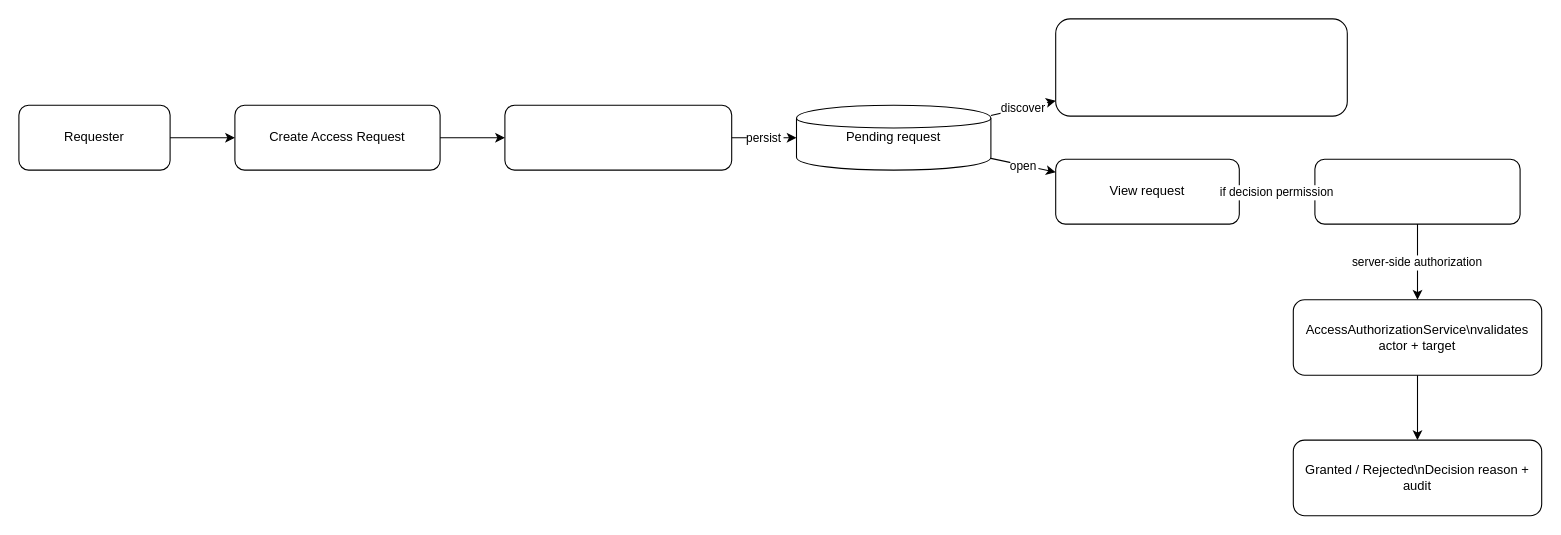
The diagram is 1561 pixels wide and 535 high, and some of its shapes have lost their labels. Each missing label, with the centre of its shape:
"AccessRequestService" goes at [618,137].
"Eligible approvers\nSuper Admin OR users.access_requests.decide + target scope" goes at [1201,67].
"Take decision\nApprove / Reject" goes at [1417,191].
